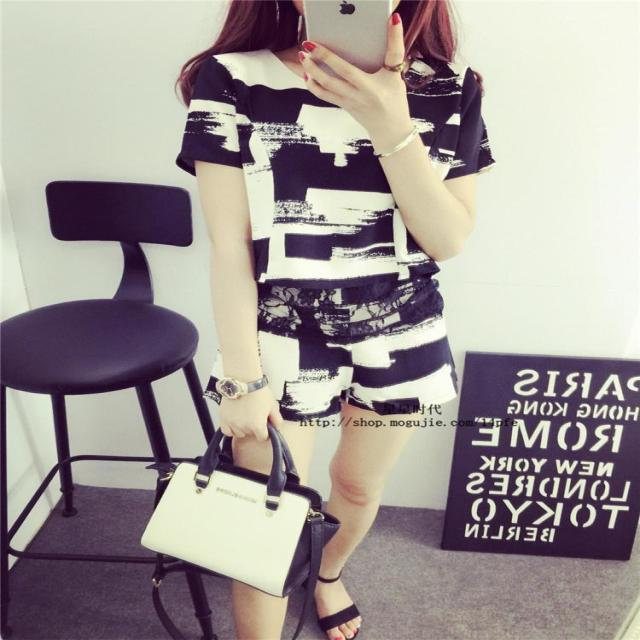short-sleeve-dress: (137, 48, 500, 451)
